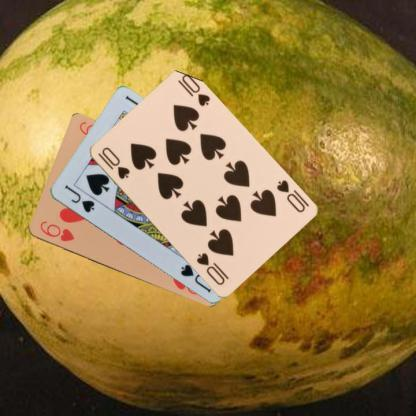10s: (95, 144, 131, 180), (274, 177, 306, 214)
6h: (37, 219, 76, 244)
Js: (61, 181, 96, 214)
